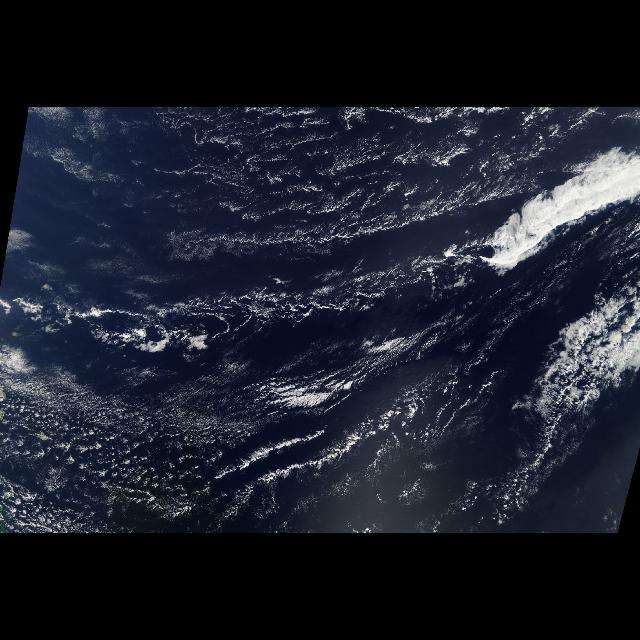Fish: (21, 258, 477, 354)
Gravel: (13, 266, 413, 354)
Sugar: (98, 110, 510, 282), (2, 373, 274, 531)
